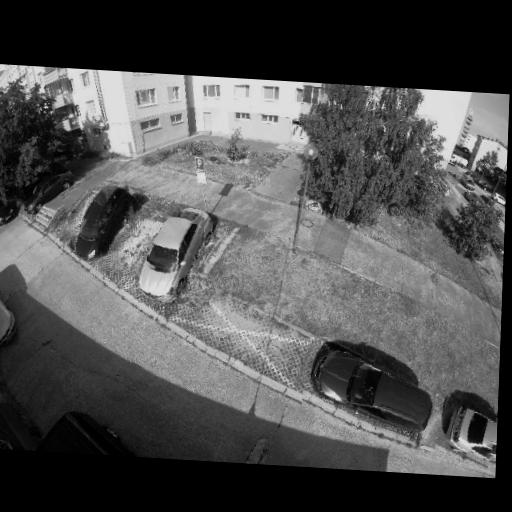busy: (301, 337, 440, 433), (125, 208, 211, 307), (64, 181, 141, 262), (437, 386, 499, 468), (0, 271, 19, 347)
free: (195, 311, 280, 367), (3, 357, 64, 420), (115, 219, 156, 272)
